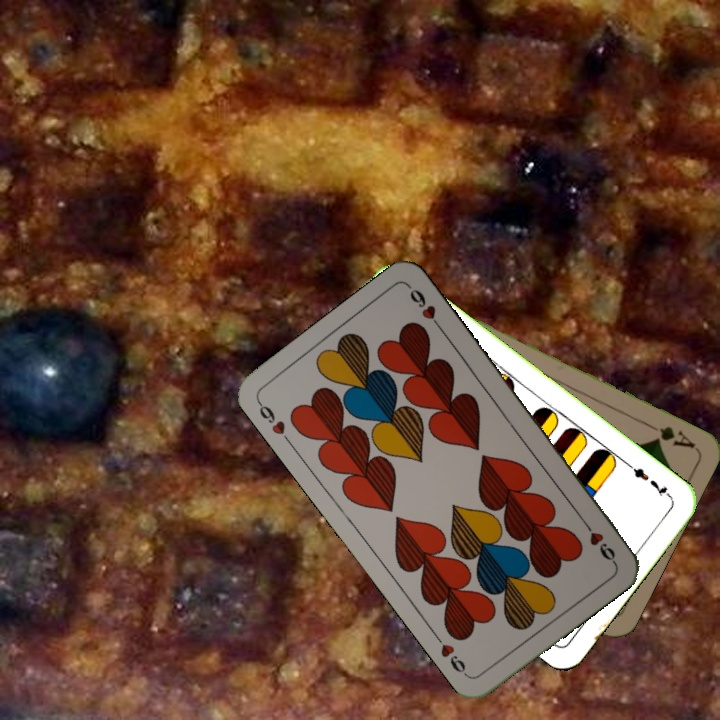E7: (624, 459, 674, 501)
GA: (642, 419, 698, 451)
H9: (253, 397, 295, 448), (578, 515, 618, 566)
